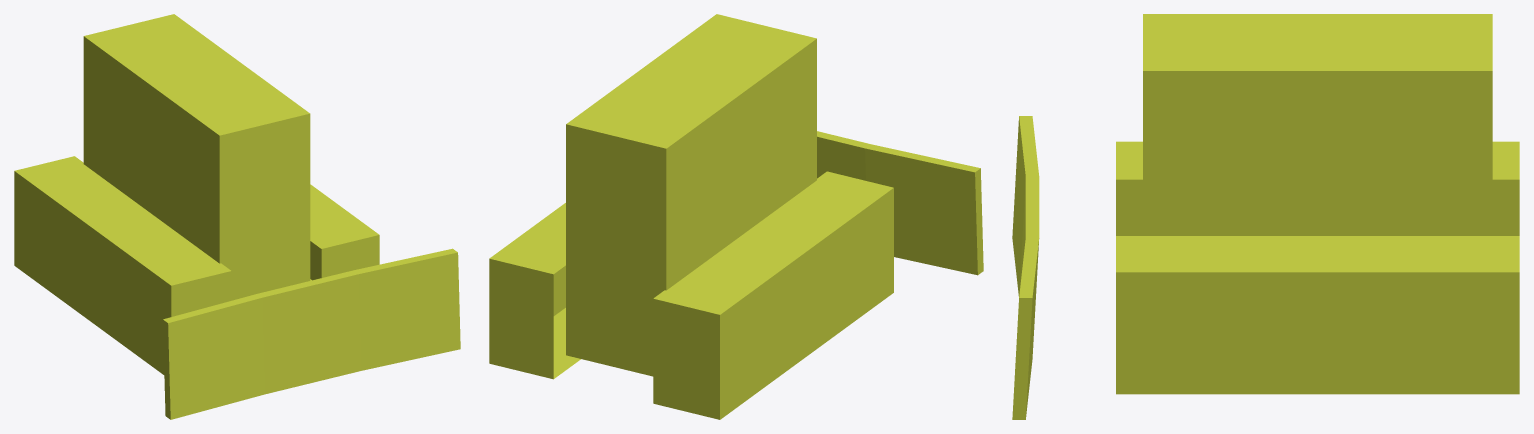
File: car.fbx
3 views of the same model, side by side, from view 1: azimuth 30°, elevation 25°; view 2: azimuth 150°, elevation 25°; view 3: azimuth 270°, elevation 25° (orthographic). The views are drawn at different scales.
Parts seen in each view (by area): view 1: head_01, hand_01, foot_01; view 2: head_01, foot_01, hand_01; view 3: head_01, foot_01, hand_01.
Part boxes in pixels (left/top/right/bottom): head_01: left=83, top=14, right=310, bottom=300; hand_01: left=163, top=248, right=460, bottom=419; foot_01: left=14, top=156, right=379, bottom=374; head_01: left=566, top=14, right=816, bottom=376; foot_01: left=489, top=171, right=893, bottom=419; hand_01: left=817, top=131, right=983, bottom=275; head_01: left=1143, top=14, right=1492, bottom=235; foot_01: left=1116, top=141, right=1519, bottom=394; hand_01: left=1012, top=116, right=1039, bottom=419.
Size of the model in its own units: 640 by 470 by 754.
